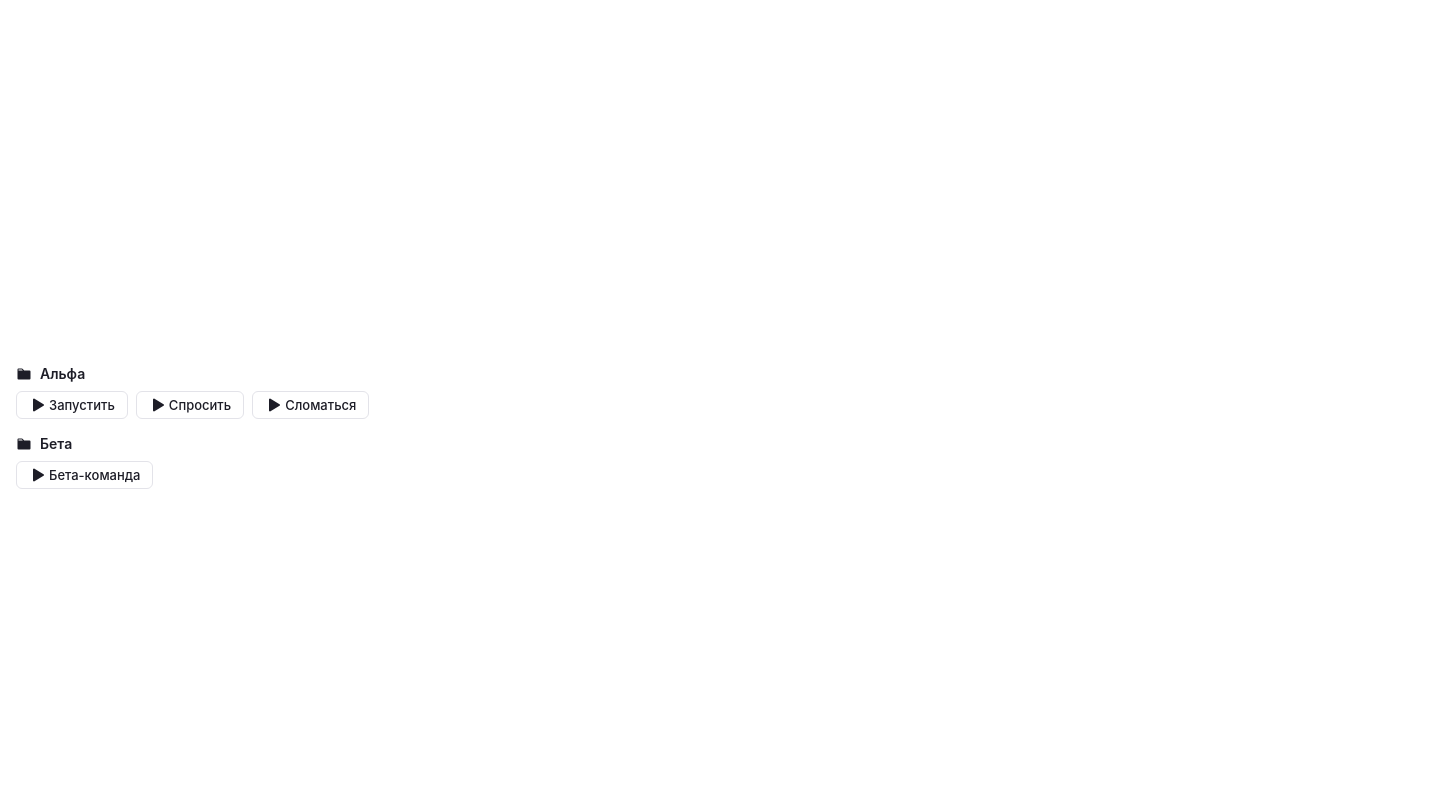
Test: Commands tab › commandsTab_dialogWithoutRequiredParameter_doesNotRun
(page scrolled)
Click the button "Спросить": (190, 405) [136,391,244,419]
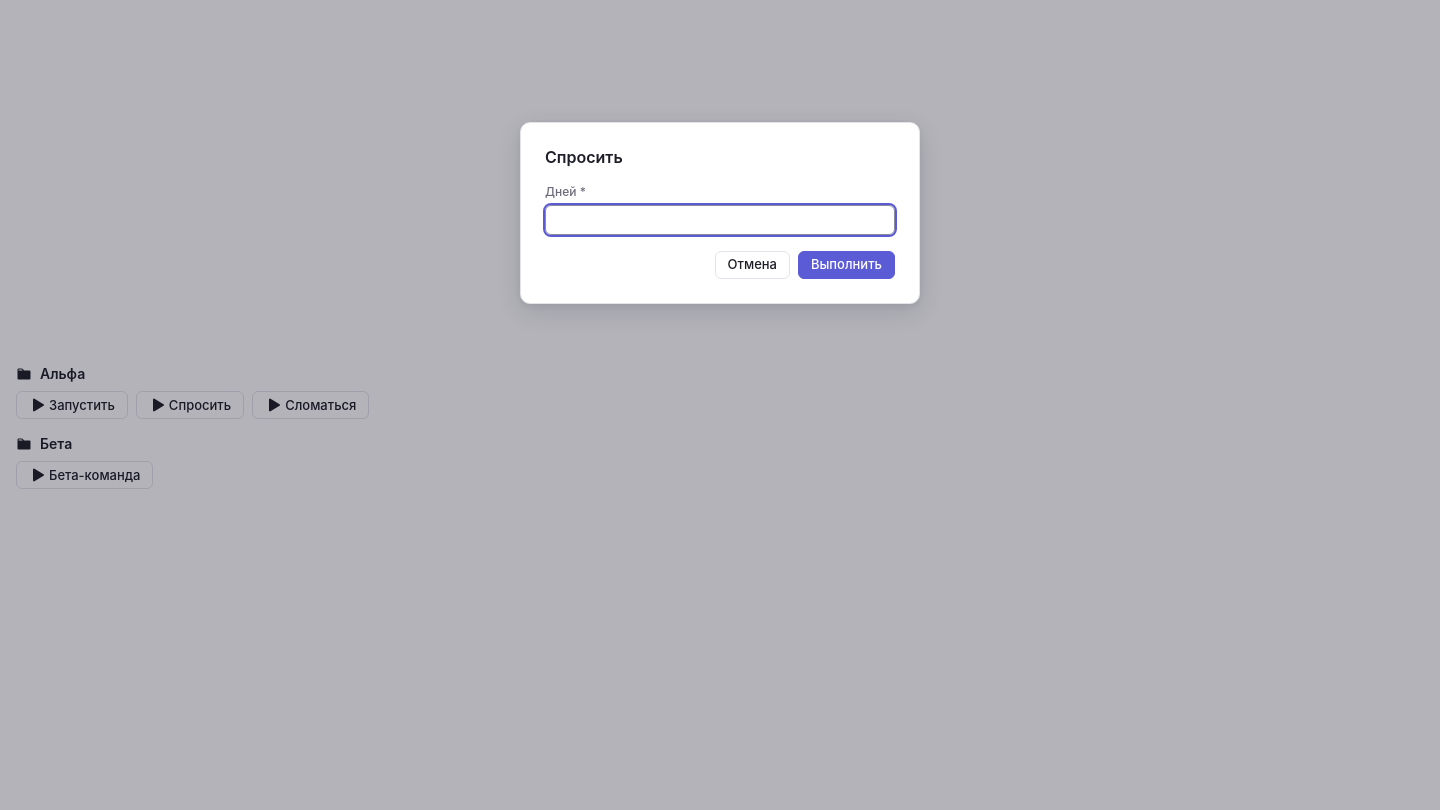
Click the button "Выполнить": (846, 265) [798,251,895,279]
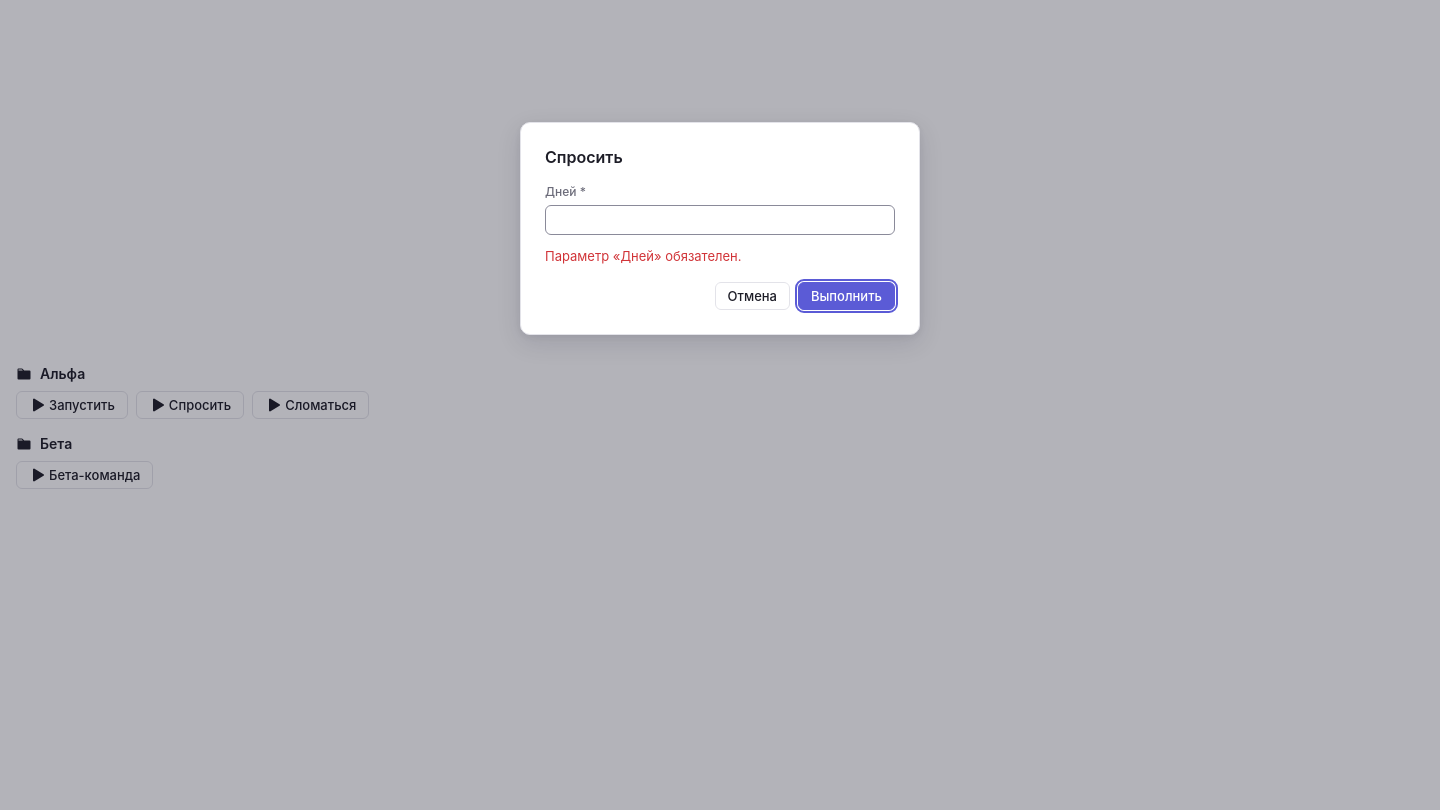
Expected: the message shows "Дней", [545,248,742,264]
